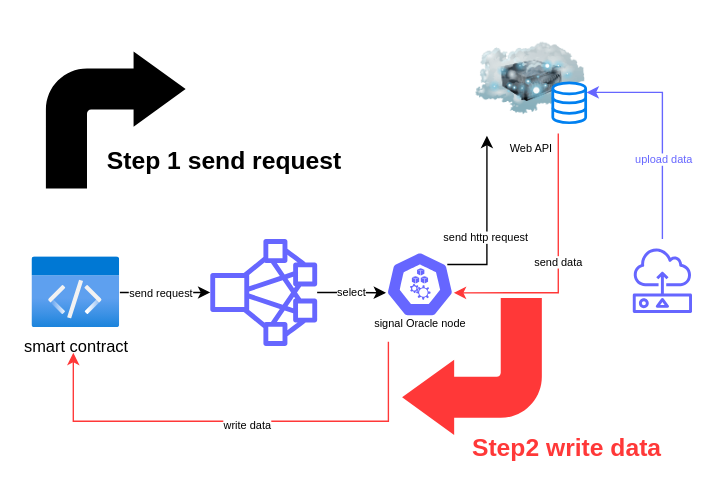
The diagram is 727 pixels wide and 499 high, and some of its shapes have lost their labels. Each missing label, with the centre of its shape:
IoT sensor: point 661,279
Oracle cluster: point 263,291
